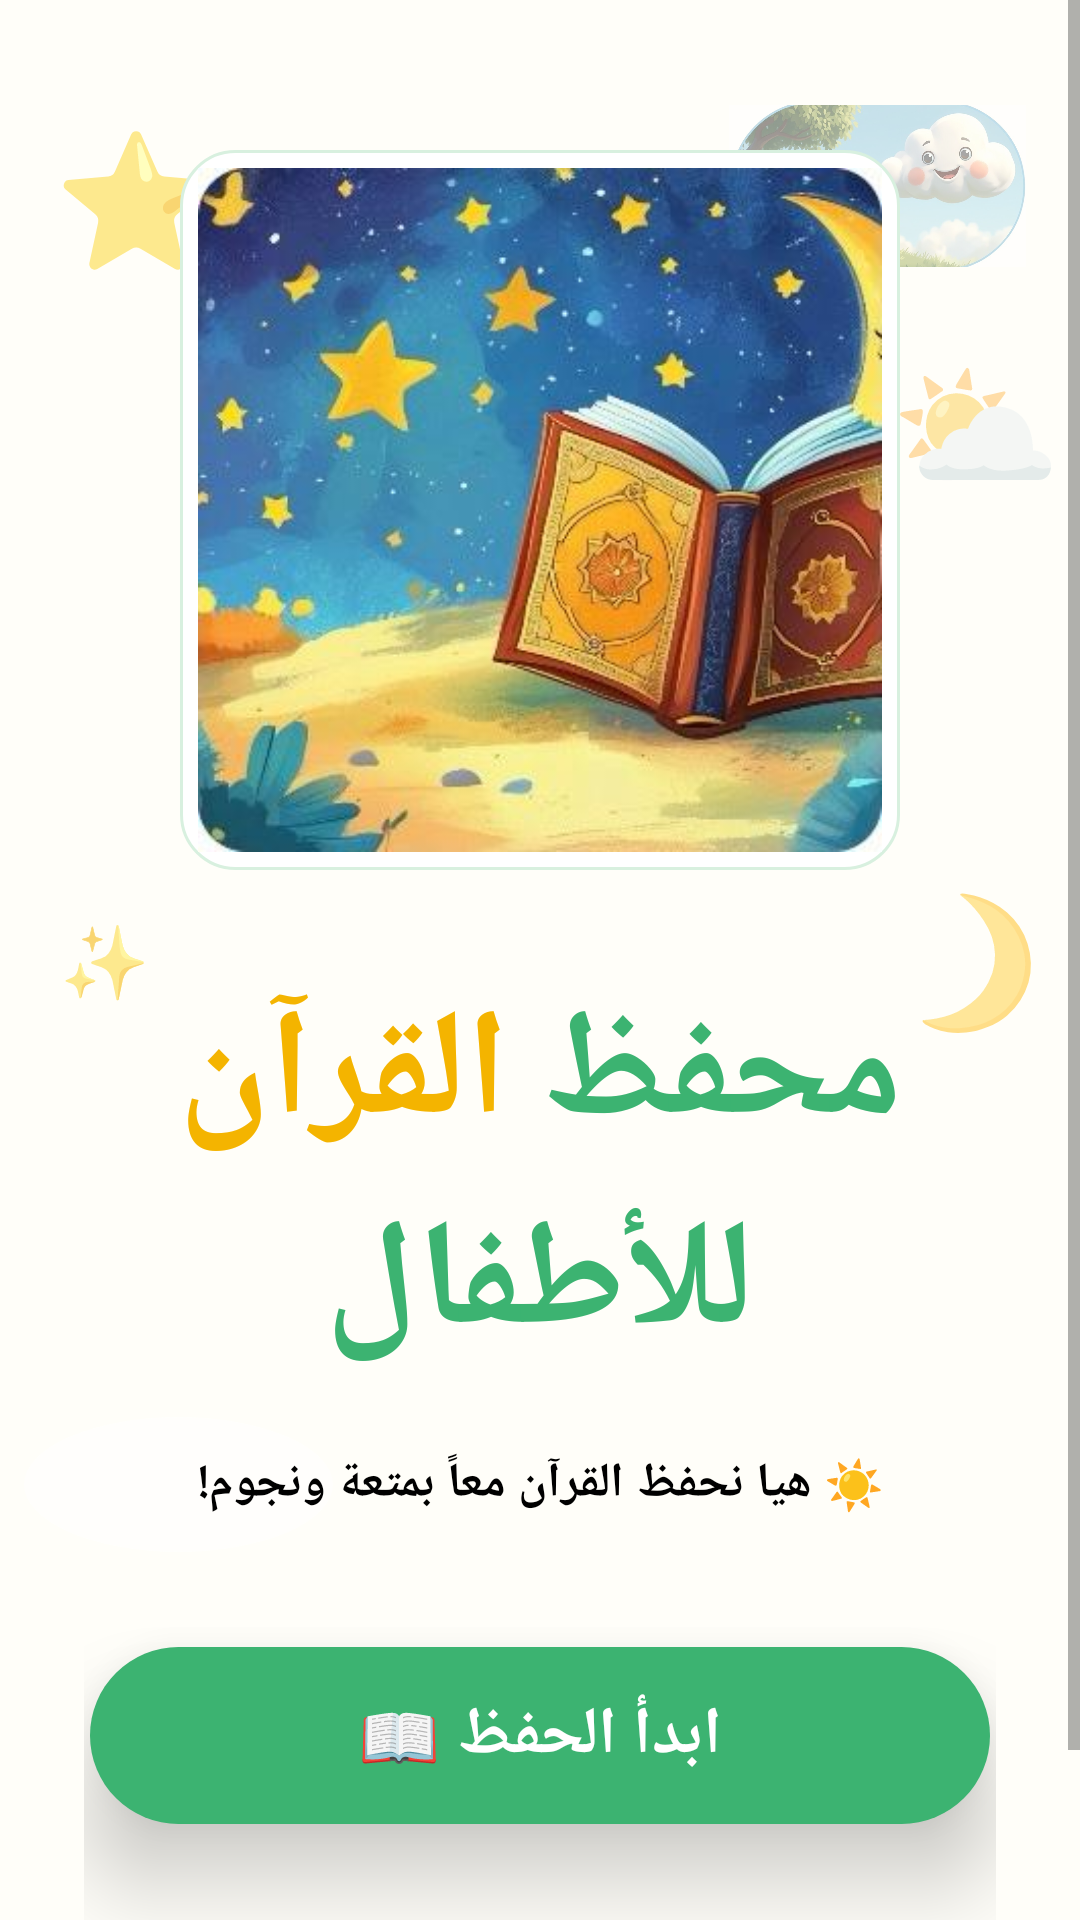

Where to tap for icons on this 1080x1920 app screen, as (x=x, y=y):
cloudd: (x=877, y=186)
